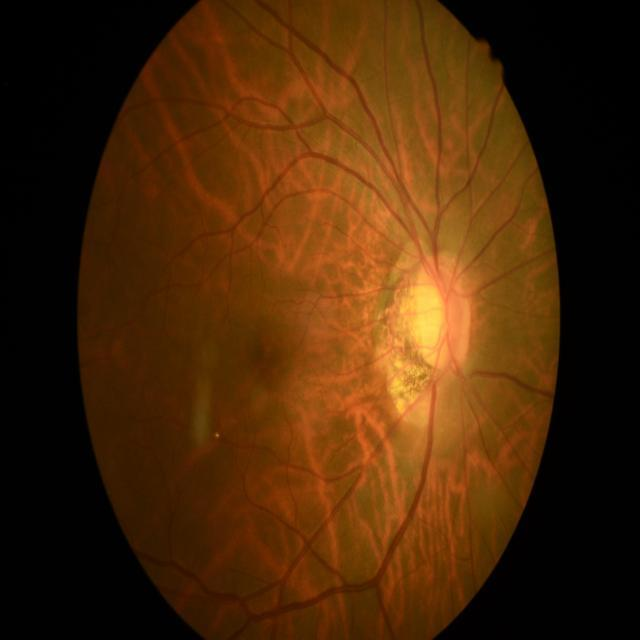cup: (415, 284, 448, 356)
disk: (405, 258, 472, 372)
